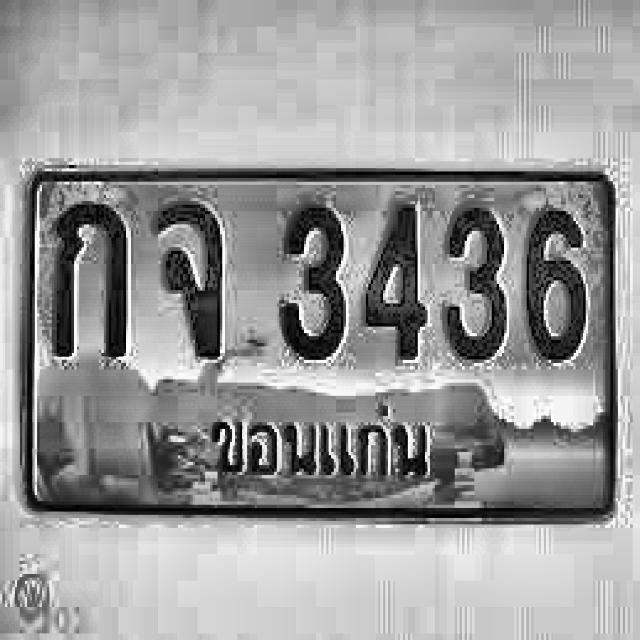license-plate: (18, 155, 630, 543)
